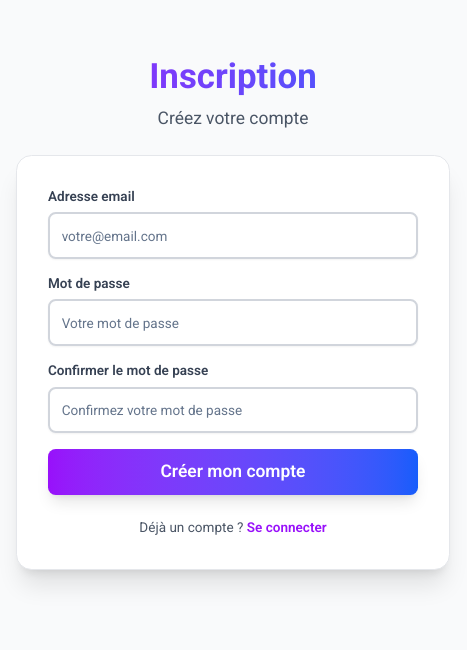
Test: inscription page › maps already-registered error to specific serverError
In the field labelled "Adresse email": (233, 236) [48,212,418,259], type "foo@bar.com"
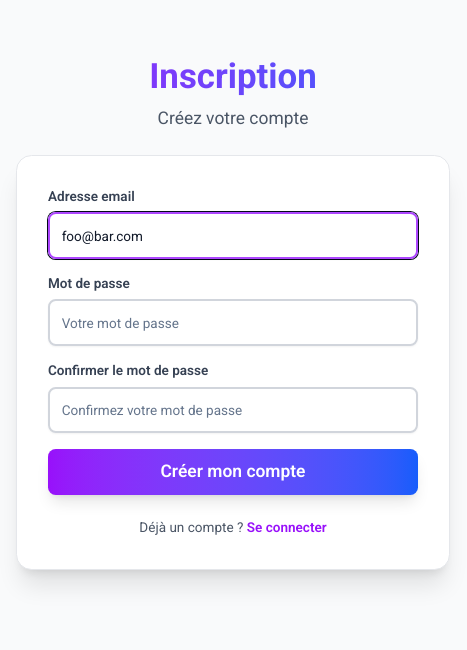
In the password field labelled "Mot de passe": (233, 323) [48,300,418,346], type "goodpass1"
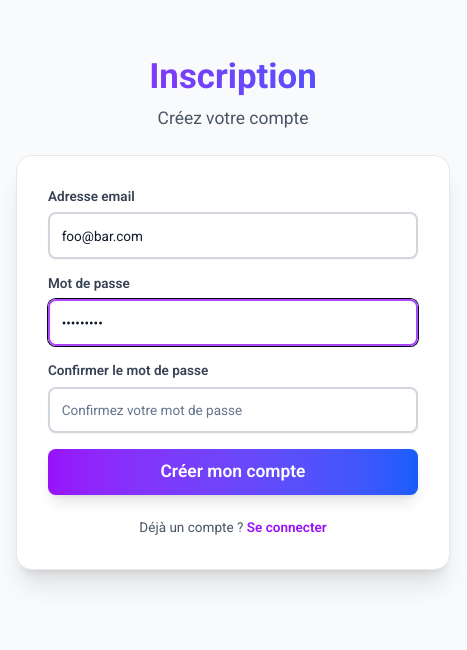
In the password field labelled "Confirmer le mot de passe": (233, 410) [48,387,418,433], type "goodpass1"
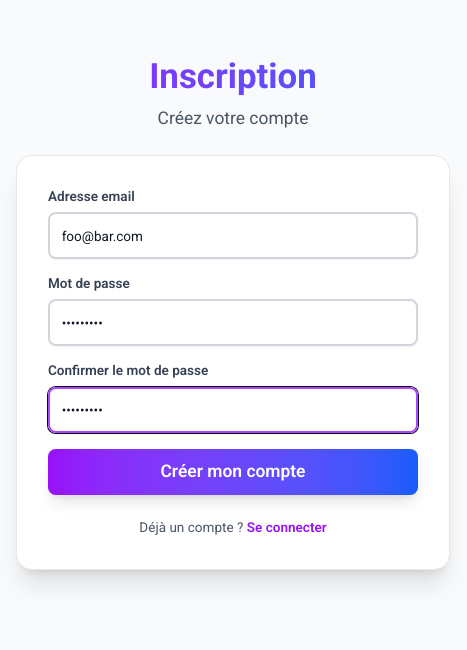
Click the button "Créer mon compte": (233, 472) [48,449,418,495]
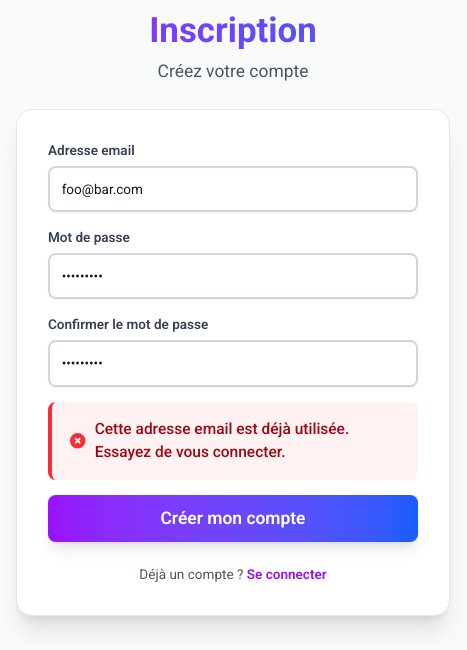
Now the text "déjà utilisée" is shown, box [95,420,349,461]
